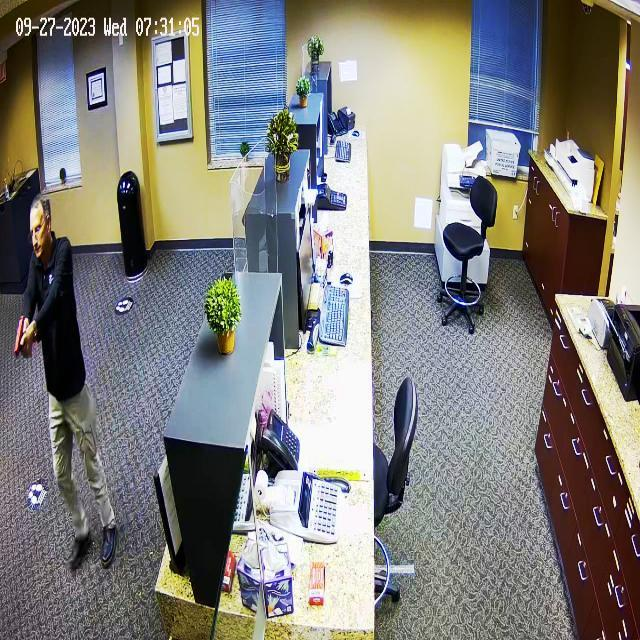Gun: (5, 305, 47, 363)
